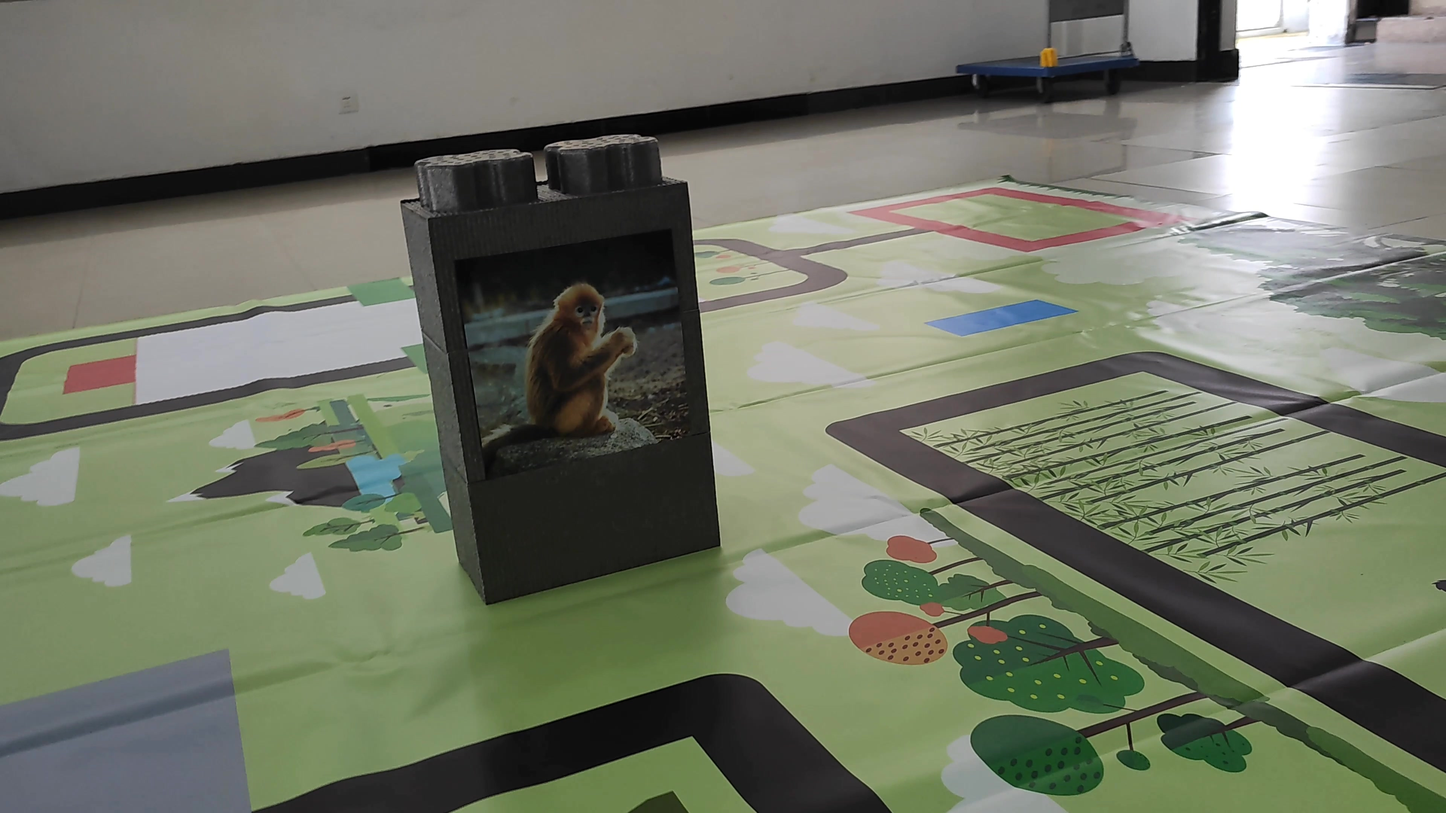monkey: (471, 266, 651, 475)
